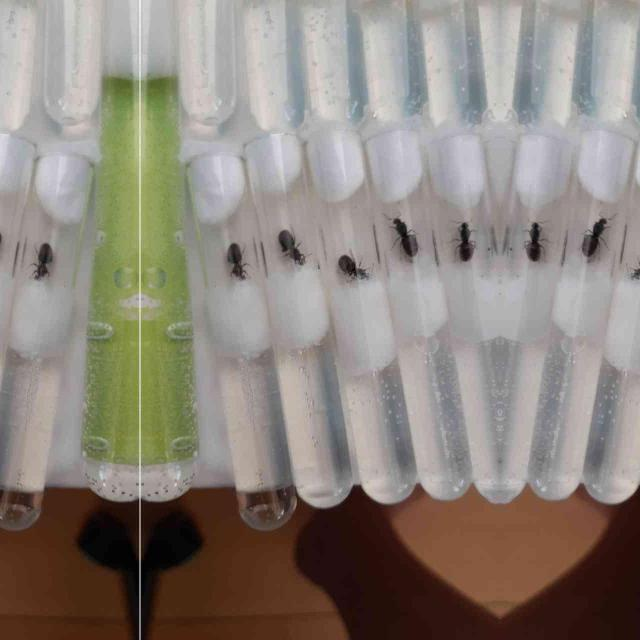Lasius: (390, 208, 430, 266), (570, 208, 610, 266), (270, 224, 316, 272), (220, 238, 253, 294), (26, 238, 59, 294), (446, 210, 480, 260), (520, 210, 554, 260), (336, 255, 376, 287), (622, 255, 640, 287), (0, 222, 10, 272)
